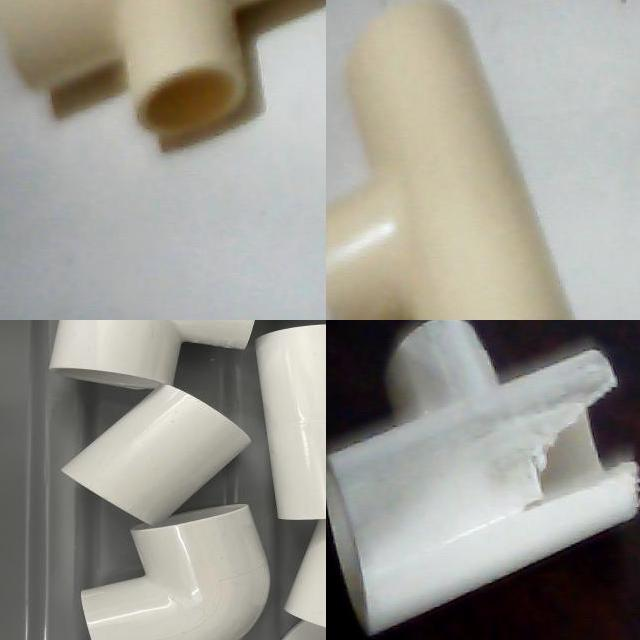Defective: (501, 461, 640, 573), (539, 414, 607, 503), (546, 358, 621, 411), (525, 455, 547, 509)
T Joint: (326, 320, 640, 640), (326, 0, 573, 320)
